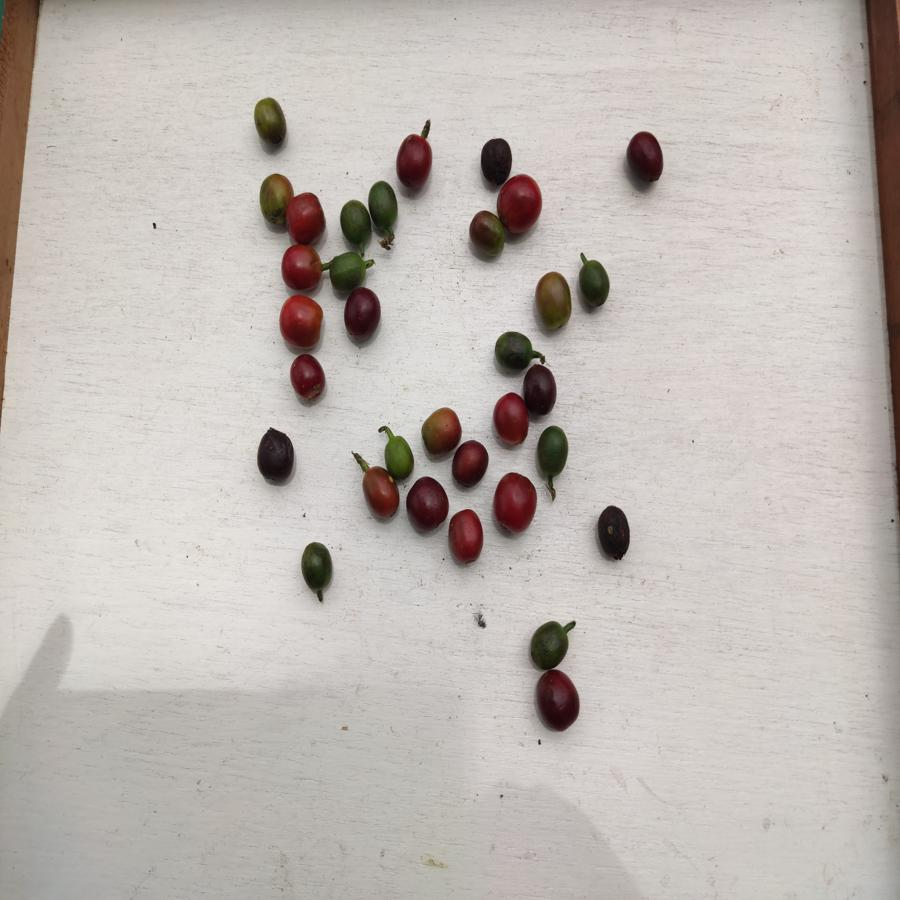Inmaduro: (530, 620, 569, 669), (535, 426, 570, 475), (367, 181, 399, 233), (300, 540, 332, 591), (493, 330, 534, 368), (579, 259, 610, 308), (339, 199, 372, 242), (328, 252, 367, 288), (384, 435, 414, 477)
Maduro: (494, 472, 543, 534), (501, 175, 544, 233), (278, 295, 323, 350), (279, 243, 324, 292), (491, 389, 528, 446), (448, 510, 485, 563), (288, 190, 325, 242)
Pinton: (533, 271, 574, 333), (359, 465, 398, 520), (253, 96, 289, 147), (421, 406, 460, 453), (256, 174, 288, 229), (468, 212, 502, 261)
Sobremaduro: (535, 669, 582, 735), (406, 477, 448, 532), (595, 505, 632, 562), (258, 427, 295, 483), (396, 134, 433, 190), (627, 131, 665, 184), (343, 288, 381, 340), (452, 439, 491, 486), (288, 355, 326, 401), (525, 364, 556, 418), (480, 138, 511, 182)
